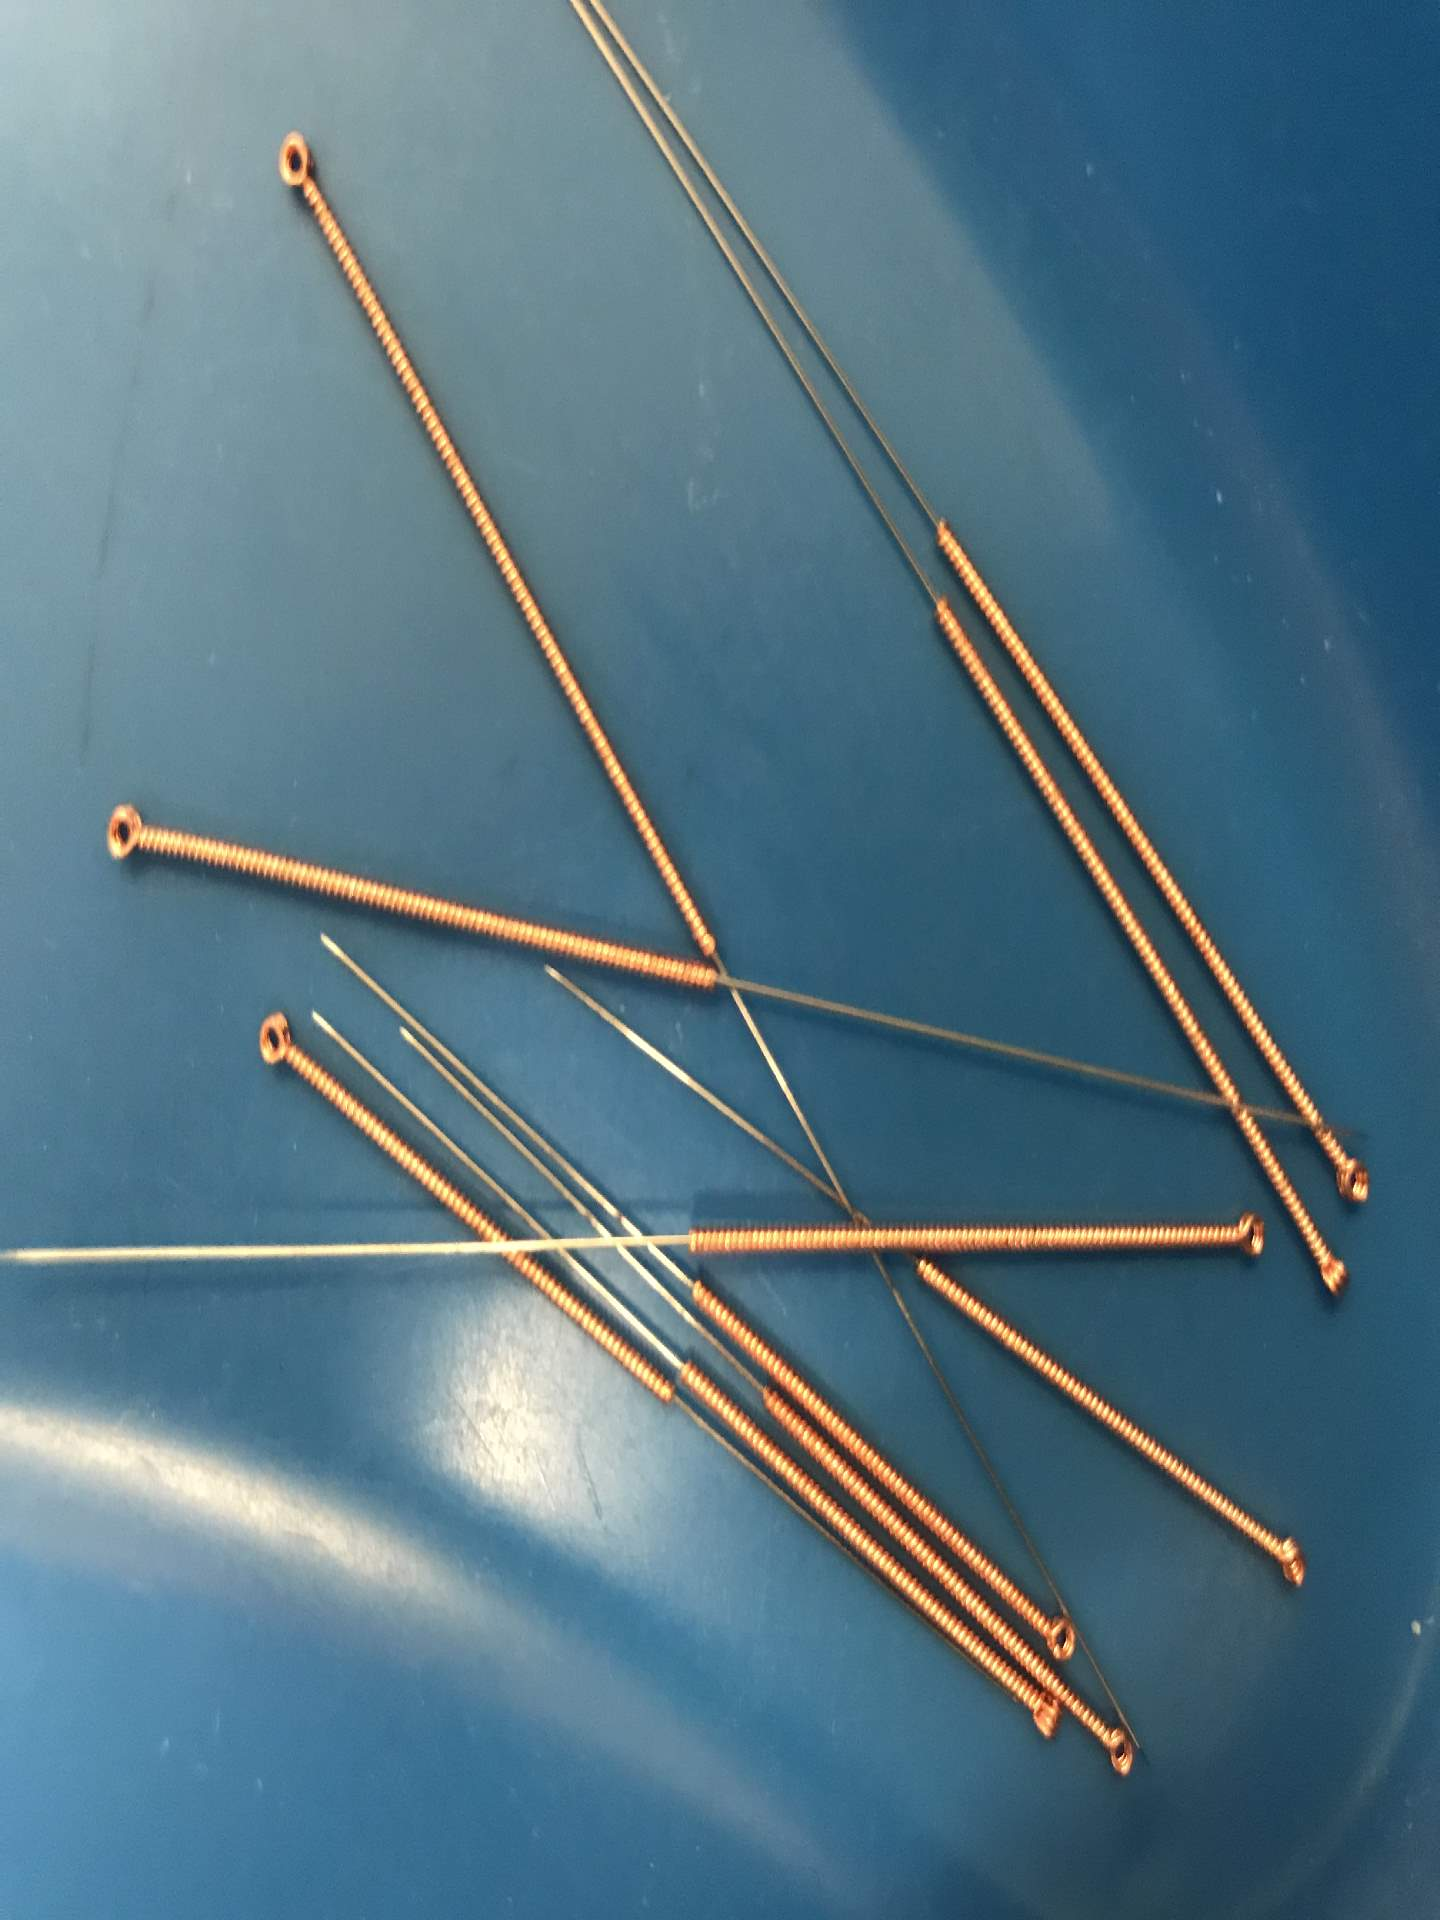needle: (82, 789, 165, 881), (259, 113, 325, 218), (234, 1001, 315, 1084), (1078, 1705, 1151, 1788), (1251, 1516, 1321, 1601), (1316, 1131, 1384, 1215), (1293, 1235, 1358, 1314), (1215, 1199, 1278, 1267), (1001, 1686, 1065, 1754), (1036, 1598, 1082, 1671)
